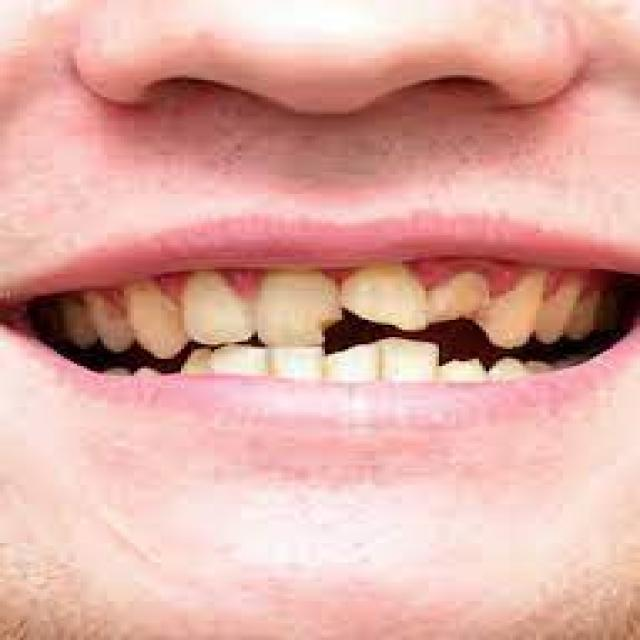tooth: (258, 269, 328, 342), (188, 269, 251, 344), (352, 267, 422, 325), (492, 274, 530, 342), (138, 281, 174, 352), (379, 334, 432, 380), (94, 293, 137, 347), (322, 347, 378, 383), (50, 296, 90, 346), (432, 274, 483, 310), (264, 347, 322, 378), (546, 279, 573, 344), (214, 344, 265, 376), (442, 359, 490, 385), (583, 284, 610, 329), (499, 359, 533, 385), (184, 349, 211, 376), (134, 361, 158, 376), (100, 366, 128, 376)
